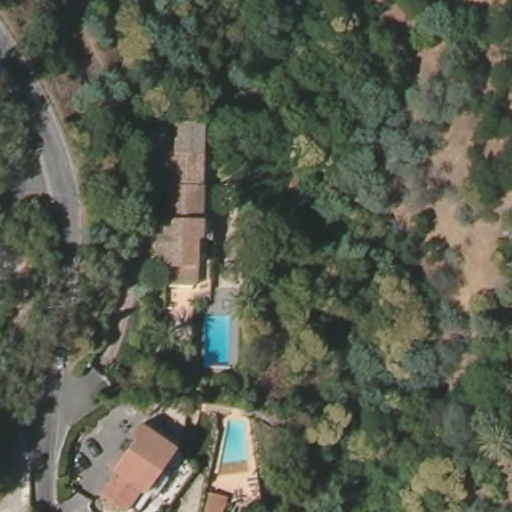pool: (207, 311, 236, 371), (220, 413, 251, 469)
